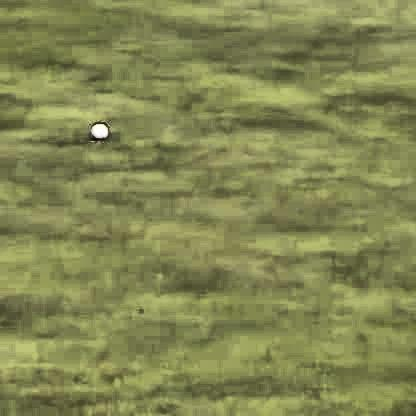golfball: (91, 118, 107, 136)
